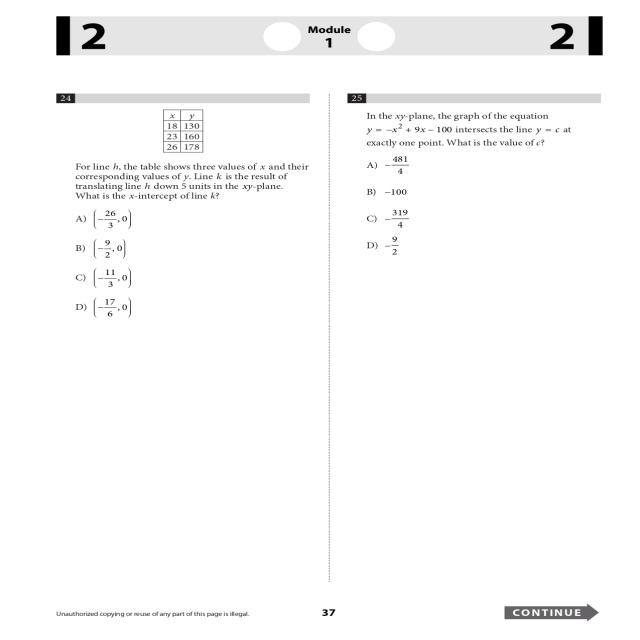Answer_Block: (51, 202, 322, 336), (337, 150, 602, 272)
Question_Answer_Block: (51, 87, 322, 336), (337, 88, 602, 271)
Question_Block: (51, 86, 322, 202), (337, 88, 602, 149)
Question_Paper_Area: (51, 87, 322, 582), (337, 88, 602, 581)
